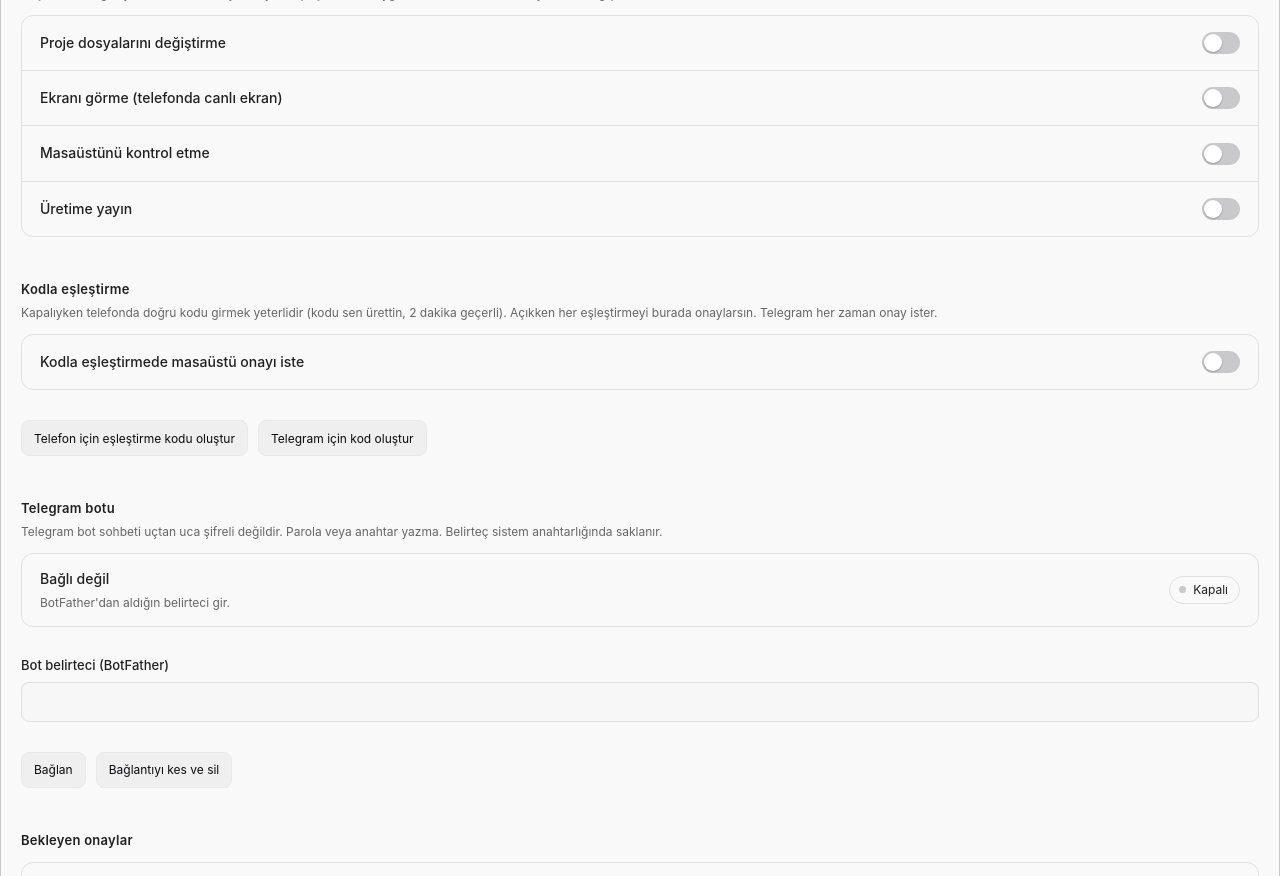
Test case: yüksek yetkiler varsayılan kapalıdır ve kod yalnız seçilen kapsamlarla istenir
The width and height of the screenshot is (1280, 876).
(page scrolled)
Expected: the switch labelled "Masaüstünü kontrol etme" is not checked, [1202,143,1240,165]
Step 1. Click the button "Telefon için eşleştirme kodu oluştur" → click(134, 438), box [21,420,248,456]
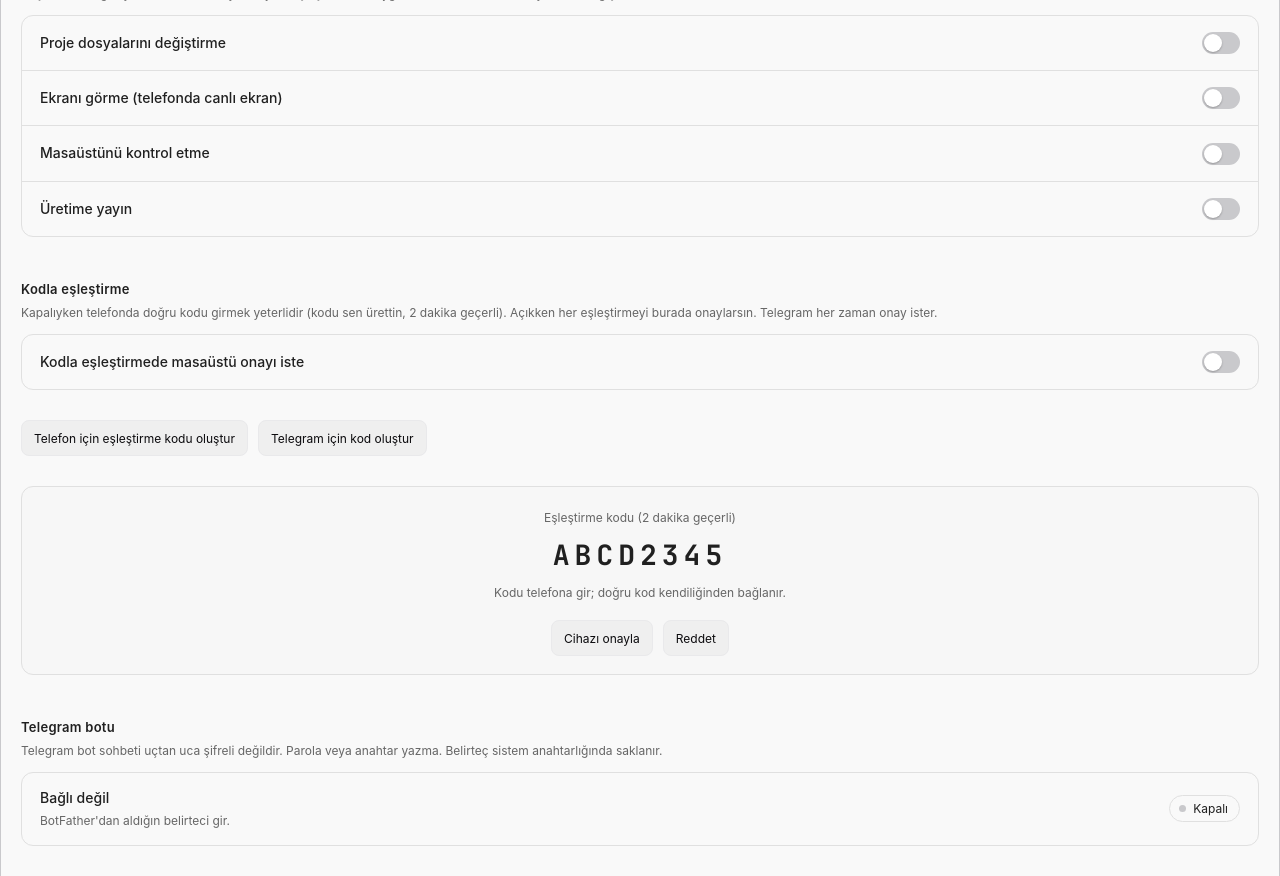
Expected: the text "ABCD2345" is shown, [553,536,727,573]
